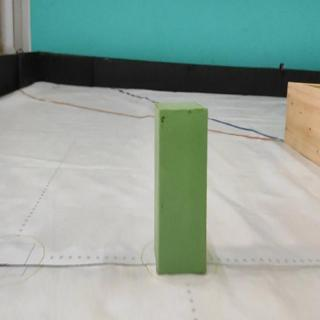greenbox: (153, 98, 210, 276)
